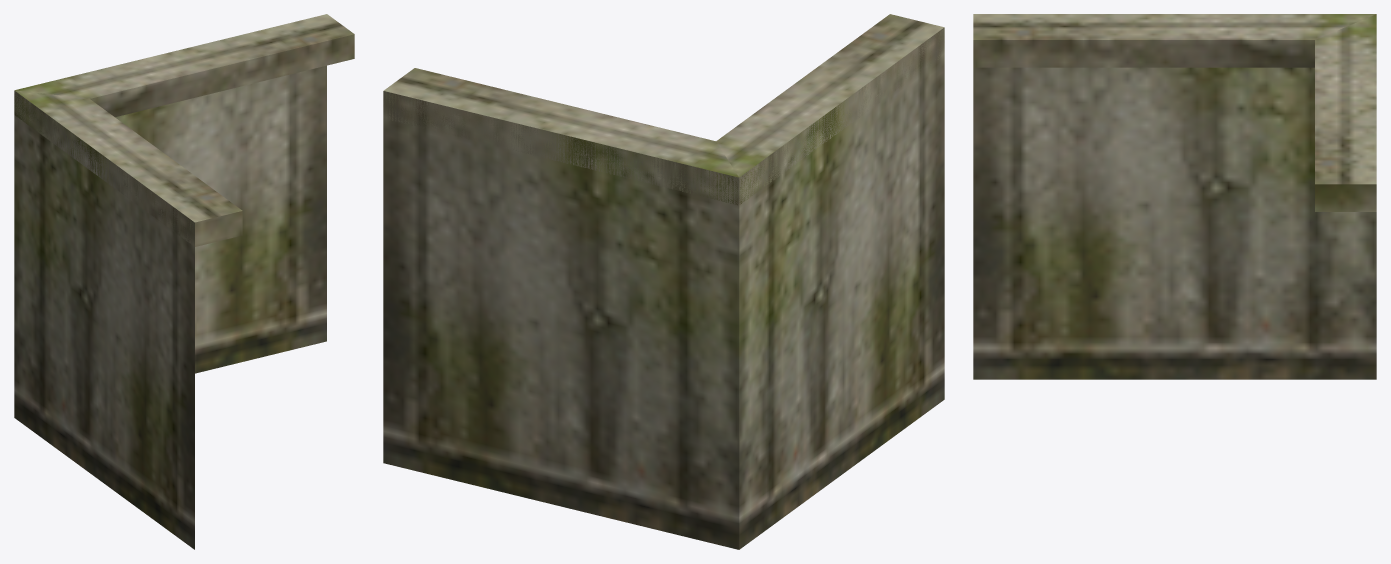
The model's file is MO_SEWERPOOL_04.fbx.
The picture shows the model from 3 angles, left to right: view 1: azimuth 30°, elevation 25°; view 2: azimuth 150°, elevation 25°; view 3: azimuth 270°, elevation 25°; orthographic projection. The views are drawn at different scales.
Parts seen in each view (by area): view 1: MO_SEWERPOOL_04; view 2: MO_SEWERPOOL_04; view 3: MO_SEWERPOOL_04.
Part boxes in pixels (<box>): MO_SEWERPOOL_04: <box>14,14,354,549</box>; MO_SEWERPOOL_04: <box>383,14,944,549</box>; MO_SEWERPOOL_04: <box>973,14,1376,379</box>.
Size of the model in its own units: 2 by 2 by 2.
